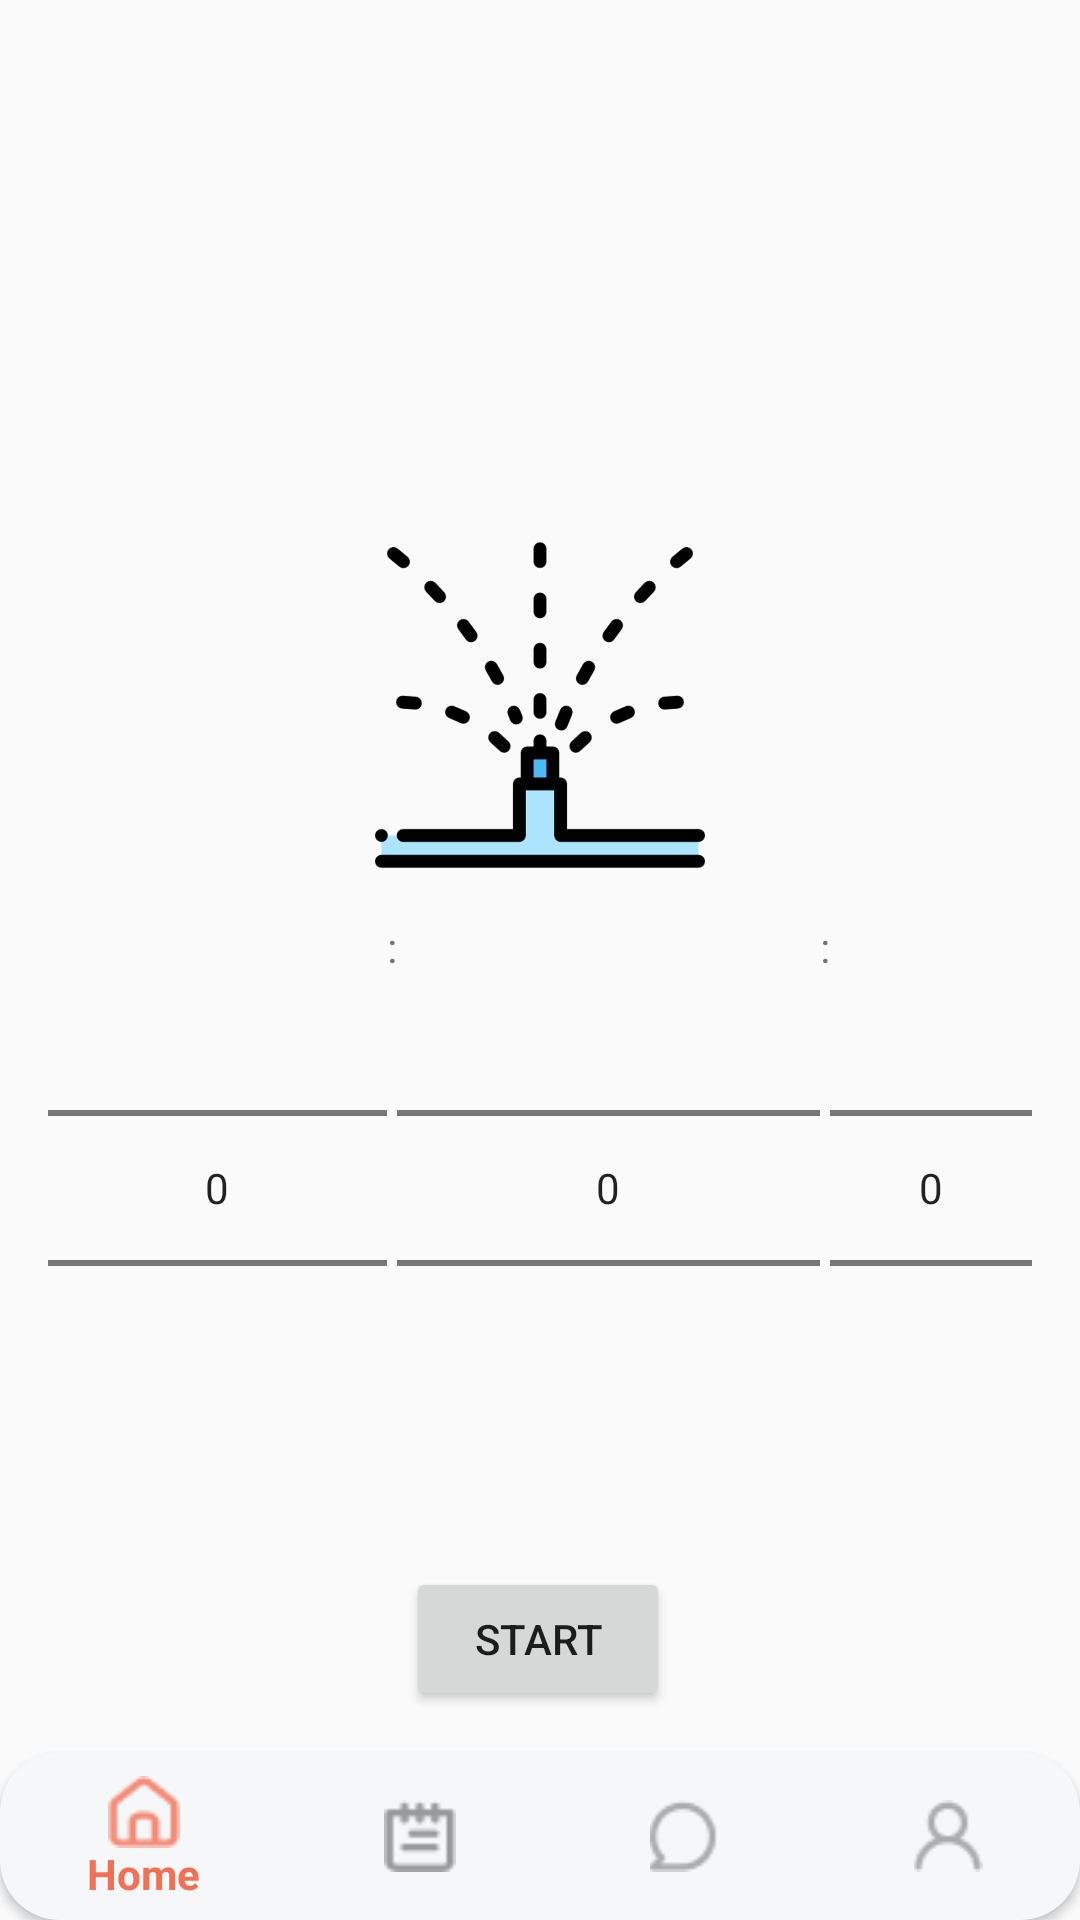

Screen size 1080 x 1920. Icon name, then its center in pixels as (x=x, y=y):
sprinkler: (x=540, y=705)
